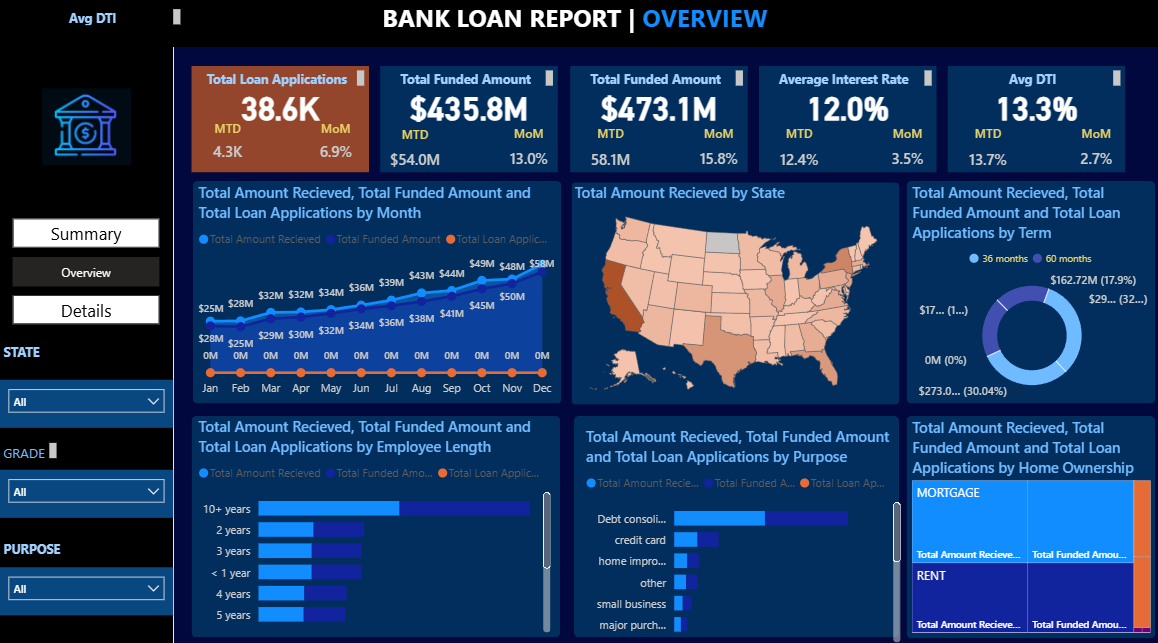

The page's visual inventory and layout, read from the dashboard file:
{"tool":"powerbi","page":{"name":"Overview","canvas":[1280,720],"ordinal":1},"visuals":[{"type":"shape","box":[0,54.3,191.4,665.7],"z":0},{"type":"shape","box":[211.4,77.1,194.9,116.6],"z":0,"group":"g1"},{"type":"shape","box":[418.6,77.1,194.9,116.6],"z":0,"group":"g2"},{"type":"shape","box":[627.1,77.1,194.9,116.6],"z":0,"group":"g3"},{"type":"shape","box":[834.3,77.1,194.9,116.6],"z":0,"group":"g4"},{"type":"shape","box":[1041.4,77.1,194.9,116.6],"z":0,"group":"g5"},{"type":"card","fields":{"Values":["financial_loan.Total Loan Applications"]},"box":[211.4,92.2,194.9,57.6],"z":1000,"group":"g1"},{"type":"card","fields":{"Values":["financial_loan.Total Funded Amount"]},"box":[418.6,92.2,194.9,57.6],"z":1000,"group":"g2"},{"type":"card","fields":{"Values":["financial_loan.Total Amount Recieved"]},"box":[627.1,92.2,194.9,57.6],"z":1000,"group":"g3"},{"type":"card","fields":{"Values":["financial_loan.Average Interest Rate"]},"box":[834.3,92.2,194.9,57.6],"z":1000,"group":"g4"},{"type":"card","fields":{"Values":["financial_loan.Avg DTI"]},"box":[1041.4,92.2,194.9,57.6],"z":1000,"group":"g5"},{"type":"shape","box":[212.7,203.1,404.8,244.3],"z":1000},{"type":"shape","box":[0,0,1280,56.3],"z":2000},{"type":"textbox","box":[211.4,77.1,194.9,27.4],"z":2000,"group":"g1"},{"type":"textbox","box":[418.6,77.1,194.9,27.4],"z":2000,"group":"g2"},{"type":"textbox","box":[627.1,77.1,194.9,27.4],"z":2000,"group":"g3"},{"type":"textbox","box":[834.3,77.1,194.9,27.4],"z":2000,"group":"g4"},{"type":"textbox","box":[1041.4,77.1,194.9,27.4],"z":2000,"group":"g5"},{"type":"textbox","box":[10,10,194.9,27.4],"z":3000},{"type":"card","title":"MTD","fields":{"Values":["financial_loan.MTD Loan Applications"]},"box":[221,136.1,60.4,56.3],"z":3000,"group":"g1"},{"type":"card","title":"MTD","fields":{"Values":["financial_loan.MTD Total Amount Recieved"]},"box":[628.3,141.6,85.7,62.9],"z":3000,"group":"g3"},{"type":"card","title":"MTD","fields":{"Values":["financial_loan.MTD Avg Int Rate"]},"box":[835.5,141.6,85.7,62.9],"z":3000,"group":"g4"},{"type":"card","title":"MTD","fields":{"Values":["financial_loan.MTD Avg DTI"]},"box":[1042.6,141.6,85.7,62.9],"z":3000,"group":"g5"},{"type":"card","title":"MTD","fields":{"Values":["financial_loan.MTD Funded Amount"]},"box":[419.8,142.7,73.8,61.2],"z":3000,"group":"g2"},{"type":"textbox","box":[415.8,0,447.3,63.1],"z":4000},{"type":"card","title":"MoM","fields":{"Values":["financial_loan.MoM Loan Applications"]},"box":[344.5,136.1,50.8,56.3],"z":4000,"group":"g1"},{"type":"card","title":"MoM","fields":{"Values":["financial_loan.MoM Total Funded Amount"]},"box":[551.1,142.1,60,60],"z":4000,"group":"g2"},{"type":"card","title":"MoM","fields":{"Values":["financial_loan.MoM Total Amount Recieved"]},"box":[759.6,142.1,60,60],"z":4000,"group":"g3"},{"type":"card","title":"MoM","fields":{"Values":["financial_loan.MoM Avg Int Rate"]},"box":[966.8,142.1,60,60],"z":4000,"group":"g4"},{"type":"card","title":"MoM","fields":{"Values":["financial_loan.MoM Avg DTI"]},"box":[1173.9,142.1,60,60],"z":4000,"group":"g5"},{"type":"group","id":"g1","title":"Group 1","box":[211.4,77.1,194.3,117.1],"z":5000},{"type":"group","id":"g2","title":"Group 1","box":[418.6,77.1,195.7,127.1],"z":6000},{"type":"group","id":"g3","title":"Group 1","box":[627.1,77.1,194.3,127.1],"z":7000},{"type":"group","id":"g4","title":"Group 1","box":[834.3,77.1,194.3,127.1],"z":8000},{"type":"group","id":"g5","title":"Group 1","box":[1041.4,77.1,194.3,127.1],"z":9000},{"type":"areaChart","fields":{"Y":["financial_loan.Total Amount Recieved","financial_loan.Total Funded Amount","financial_loan.Total Loan Applications"],"Category":["Date Table.Month"]},"box":[214.1,204.5,400.7,244.3],"z":10000},{"type":"shape","box":[628.5,204.5,360,244.3],"z":11000},{"type":"shapeMap","fields":{"Value":["financial_loan.Total Amount Recieved"],"Category":["financial_loan.address_state"]},"box":[627.1,204.5,359.5,244.3],"z":12000},{"type":"shape","box":[996.2,203.1,273.1,244.3],"z":13000},{"type":"donutChart","fields":{"Y":["financial_loan.Total Amount Recieved","financial_loan.Total Funded Amount","financial_loan.Total Loan Applications"],"Category":["financial_loan.term"]},"box":[997.6,204.5,273.1,244.3],"z":14000},{"type":"shape","box":[211.3,461.1,404.8,242.9],"z":15000},{"type":"barChart","fields":{"Y":["financial_loan.Total Amount Recieved","financial_loan.Total Funded Amount","financial_loan.Total Loan Applications"],"Category":["financial_loan.emp_length"]},"box":[214.1,461.1,396.6,242.9],"z":16000},{"type":"shape","box":[631.2,461.1,356.8,242.9],"z":17000},{"type":"barChart","fields":{"Y":["financial_loan.Total Amount Recieved","financial_loan.Total Funded Amount","financial_loan.Total Loan Applications"],"Category":["financial_loan.purpose"]},"box":[639.5,472,355.4,242.9],"z":18000},{"type":"shape","box":[996.2,461.1,273.1,244.3],"z":19000},{"type":"treemap","fields":{"Values":["financial_loan.Total Amount Recieved","financial_loan.Total Funded Amount","financial_loan.Total Loan Applications"],"Group":["financial_loan.home_ownership"]},"box":[997.6,462.4,271.7,241.5],"z":20000},{"type":"textbox","box":[0,375.7,68.6,28.6],"z":21000},{"type":"slicer","fields":{"Values":["financial_loan.address_state"]},"box":[0,421.4,191.4,52.9],"z":22000},{"type":"slicer","fields":{"Values":["financial_loan.grade"]},"box":[0,520,191.4,52.9],"z":23000},{"type":"textbox","box":[0,485.7,68.6,28.6],"z":24000},{"type":"slicer","fields":{"Values":["financial_loan.purpose"]},"box":[0,627.1,191.4,52.9],"z":25000},{"type":"textbox","box":[0,592.9,107.1,31.4],"z":26000},{"type":"pageNavigator","box":[15.1,244.3,161.9,116.6],"z":27000},{"type":"image","box":[42.5,91.9,107,102.9],"z":28000}]}

Visuals, with their boxes in screenshot pixels (x1, y1, x2, y2), scaled from the page's 1280x720 canvas onto the 1158x643 screenshot:
shape: (0, 48, 173, 642)
shape: (191, 69, 368, 173)
shape: (379, 69, 555, 173)
shape: (567, 69, 744, 173)
shape: (755, 69, 931, 173)
shape: (942, 69, 1118, 173)
card - financial_loan.Total Loan Applications: (191, 82, 368, 134)
card - financial_loan.Total Funded Amount: (379, 82, 555, 134)
card - financial_loan.Total Amount Recieved: (567, 82, 744, 134)
card - financial_loan.Average Interest Rate: (755, 82, 931, 134)
card - financial_loan.Avg DTI: (942, 82, 1118, 134)
shape: (192, 181, 559, 400)
shape: (0, 0, 1157, 50)
textbox: (191, 69, 368, 93)
textbox: (379, 69, 555, 93)
textbox: (567, 69, 744, 93)
textbox: (755, 69, 931, 93)
textbox: (942, 69, 1118, 93)
textbox: (9, 9, 185, 33)
"MTD" card: (200, 122, 255, 172)
"MTD" card: (568, 126, 646, 183)
"MTD" card: (756, 126, 833, 183)
"MTD" card: (943, 126, 1021, 183)
"MTD" card: (380, 127, 447, 182)
textbox: (376, 0, 781, 56)
"MoM" card: (312, 122, 358, 172)
"MoM" card: (499, 127, 553, 180)
"MoM" card: (687, 127, 741, 180)
"MoM" card: (875, 127, 929, 180)
"MoM" card: (1062, 127, 1116, 180)
"Group 1" group: (191, 69, 367, 173)
"Group 1" group: (379, 69, 556, 182)
"Group 1" group: (567, 69, 743, 182)
"Group 1" group: (755, 69, 931, 182)
"Group 1" group: (942, 69, 1118, 182)
areaChart - financial_loan.Total Amount Recieved x financial_loan.Total Funded Amount: (194, 183, 556, 401)
shape: (569, 183, 894, 401)
shapeMap - financial_loan.Total Amount Recieved x financial_loan.address_state: (567, 183, 893, 401)
shape: (901, 181, 1148, 400)
donutChart - financial_loan.Total Amount Recieved x financial_loan.Total Funded Amount: (903, 183, 1150, 401)
shape: (191, 412, 557, 629)
barChart - financial_loan.Total Amount Recieved x financial_loan.Total Funded Amount: (194, 412, 552, 629)
shape: (571, 412, 894, 629)
barChart - financial_loan.Total Amount Recieved x financial_loan.Total Funded Amount: (579, 422, 900, 638)
shape: (901, 412, 1148, 630)
treemap - financial_loan.Total Amount Recieved x financial_loan.Total Funded Amount: (903, 413, 1148, 629)
textbox: (0, 336, 62, 361)
slicer - financial_loan.address_state: (0, 376, 173, 424)
slicer - financial_loan.grade: (0, 464, 173, 512)
textbox: (0, 434, 62, 459)
slicer - financial_loan.purpose: (0, 560, 173, 607)
textbox: (0, 529, 97, 558)
pageNavigator: (14, 218, 160, 322)
image: (38, 82, 135, 174)
